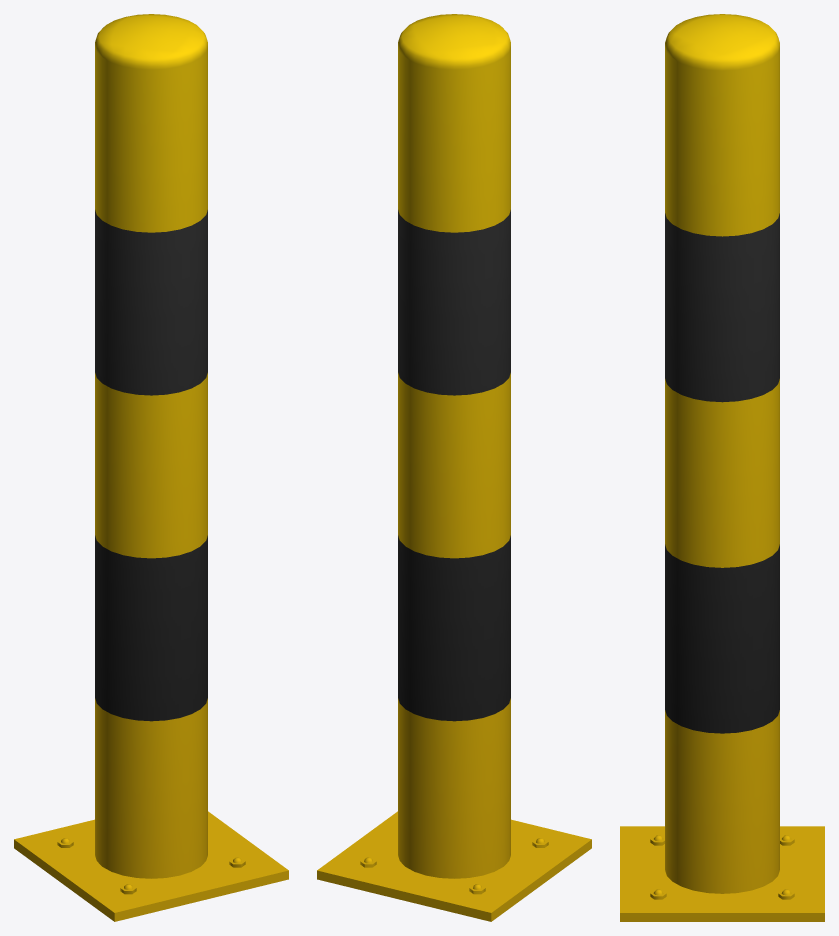
The model's file is traffic_bollard_01_yellow_small.glb.
3 views of the same model, side by side, from view 1: azimuth 30°, elevation 25°; view 2: azimuth 150°, elevation 25°; view 3: azimuth 270°, elevation 25° (orthographic).
Visible parts, largest first — view 1: traffic_bollard_01_yellow_small; view 2: traffic_bollard_01_yellow_small; view 3: traffic_bollard_01_yellow_small.
Part boxes in pixels (box(x1,y1,x2,y2)): traffic_bollard_01_yellow_small: box(14, 14, 288, 921); traffic_bollard_01_yellow_small: box(317, 14, 591, 921); traffic_bollard_01_yellow_small: box(620, 14, 824, 921).
Size of the model in its own units: 0.2032 by 0.9315 by 0.2032.
1 material, 1 textured.
